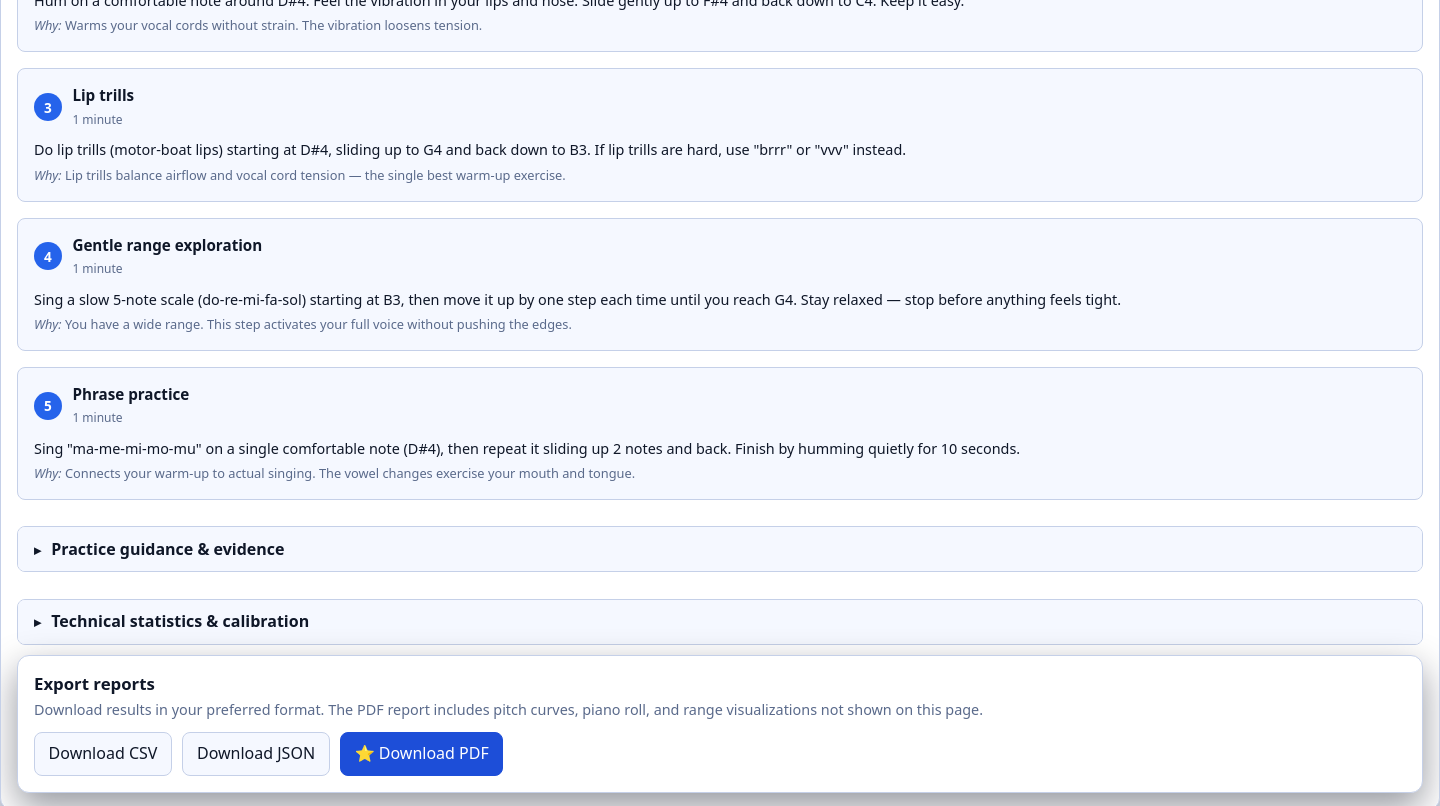
Test: AnalysisResults › renders a dedicated reference calibration tab and allows selecting it
(page scrolled)
Step 1. Click the heading "Technical statistics & calibration" → {"x": 180, "y": 621}, box x1=18 y1=600 x2=1422 y2=644
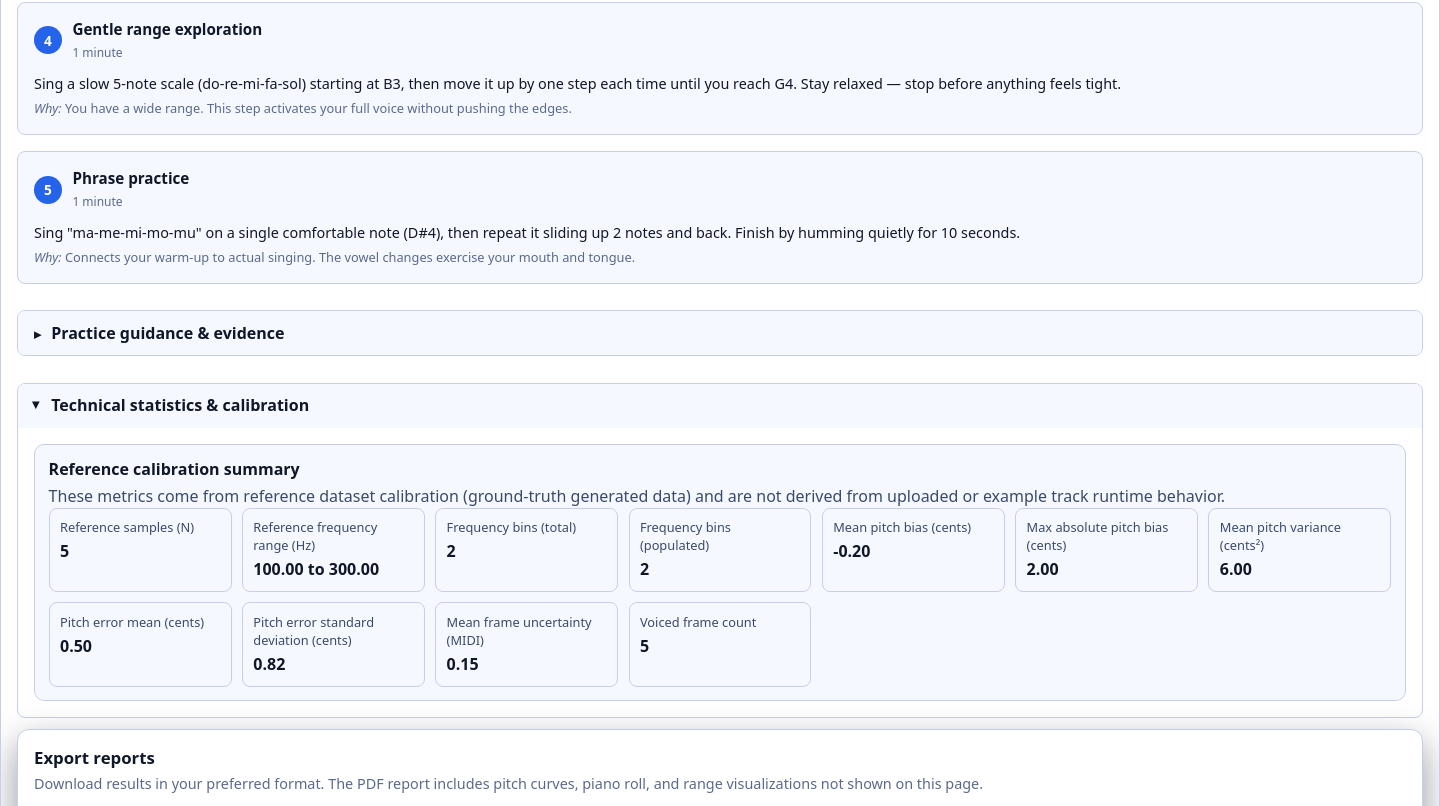
Check: the heading "Reference calibration summary" is shown, box x1=49 y1=458 x2=300 y2=480
Check: the text "These metrics come from reference dataset calibration (ground-truth generated data) and are not derived from uploaded or" is shown, box x1=49 y1=486 x2=1225 y2=508
Check: the text "100.00 to 300.00" is shown, box x1=253 y1=558 x2=379 y2=580
